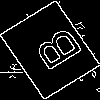B: (24, 25, 84, 78)
